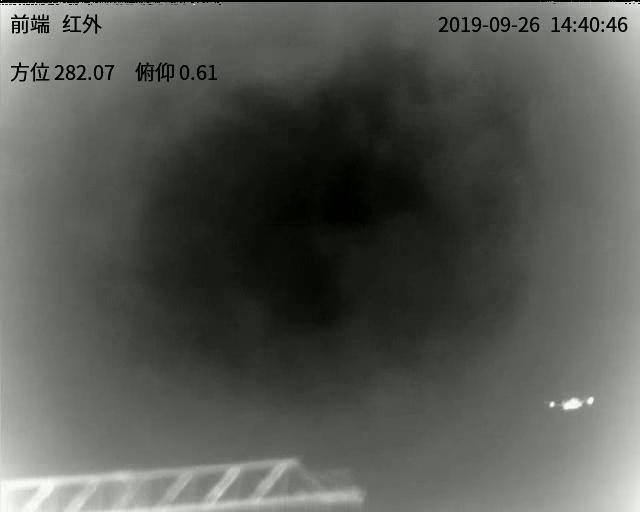DRONE: (548, 396, 595, 411)
